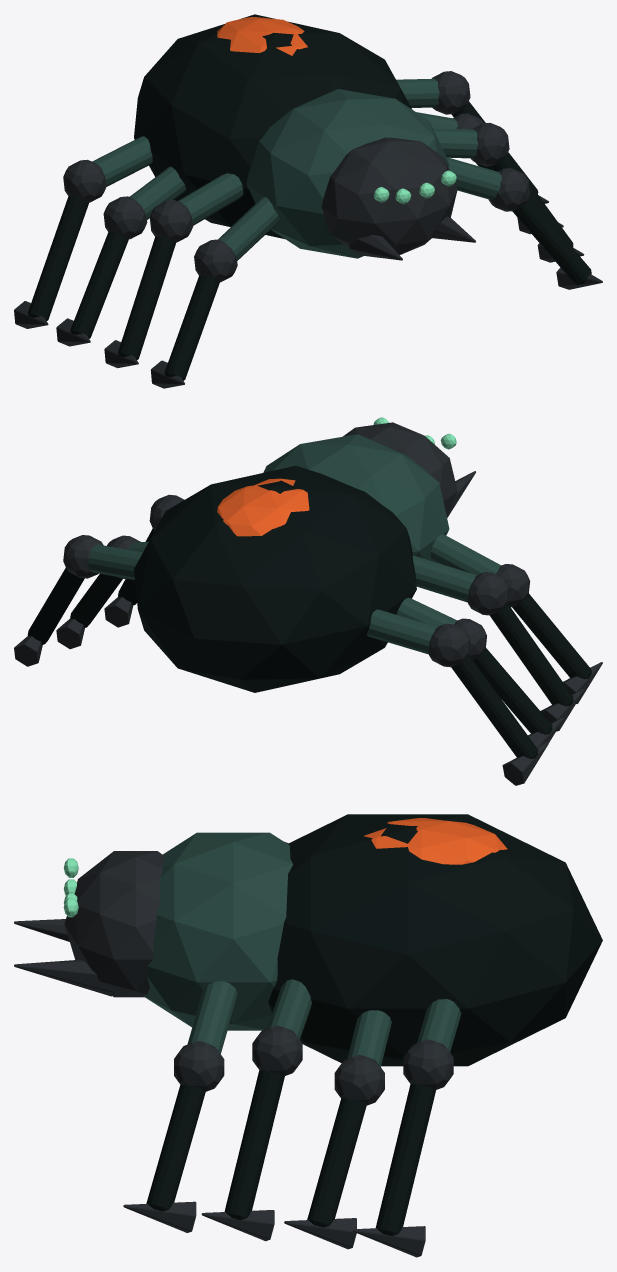
Rendered from Prismora_Tessitore_V1.fbx.
The picture shows the model from 3 angles, top to bottom: view 1: azimuth 30°, elevation 25°; view 2: azimuth 150°, elevation 25°; view 3: azimuth 270°, elevation 25°; orthographic projection. The views are drawn at different scales.
Parts seen in each view (by area): view 1: Tessitore_Body, Tessitore_Energy; view 2: Tessitore_Body, Tessitore_Energy; view 3: Tessitore_Body, Tessitore_Energy.
Boxes of the visible parts, x1,y1,x2,y2 form: Tessitore_Body: (14,14,602,388); Tessitore_Energy: (217,17,456,204); Tessitore_Body: (14,422,602,785); Tessitore_Energy: (217,417,456,536); Tessitore_Body: (14,814,602,1257); Tessitore_Energy: (63,818,507,917).
Size of the model in its own units: 5.16 by 2.29 by 4.29.
3 materials, 2 textured.
